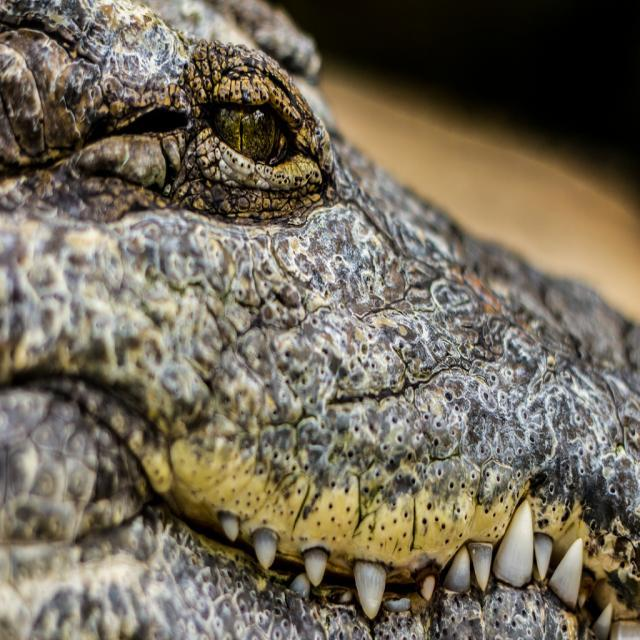crocodile: (1, 0, 639, 639)
